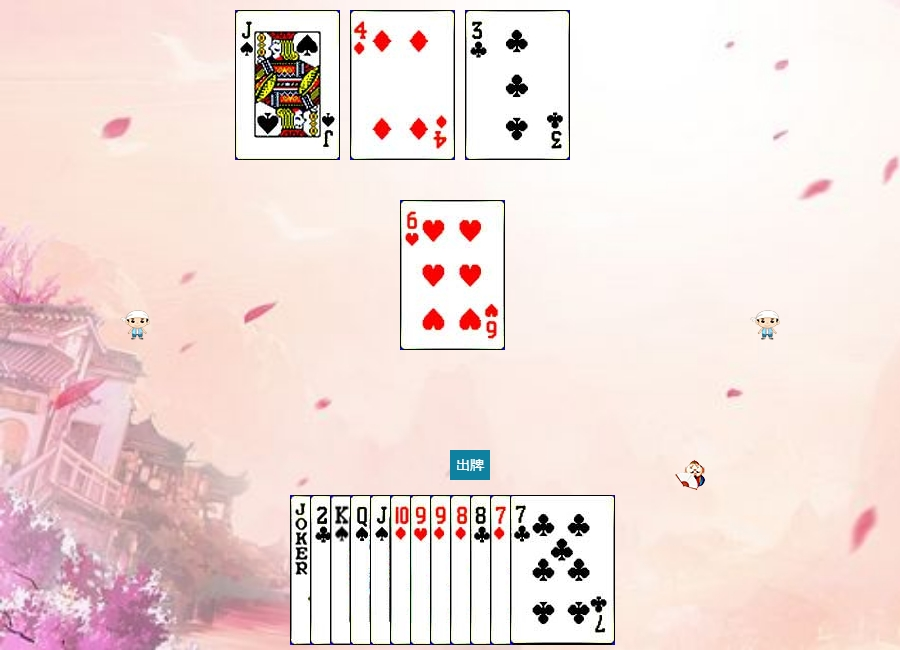10~1: (390, 495, 495, 645)
11~4: (235, 10, 340, 160), (370, 495, 475, 645)
12~4: (350, 495, 455, 645)
13~4: (330, 495, 435, 645)
15~2: (310, 495, 415, 645)
17~3: (290, 495, 395, 645)
3~2: (465, 10, 570, 160)
4~1: (350, 10, 455, 160)
6~3: (400, 200, 505, 350)
7~1: (490, 495, 595, 645)
7~2: (510, 495, 615, 645)
8~1: (450, 495, 555, 645)
8~2: (470, 495, 575, 645)
9~1: (430, 495, 535, 645)
9~3: (410, 495, 515, 645)
